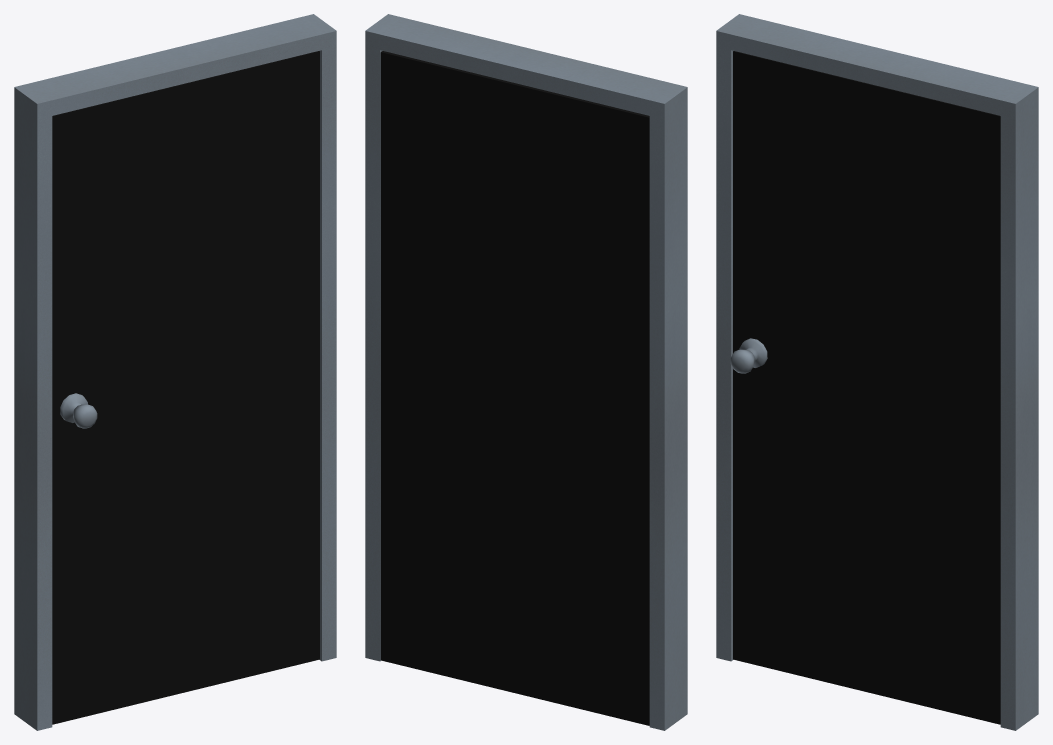
Rendered from PuertaPlasticoNegro.fbx.
The picture shows the model from 3 angles, left to right: view 1: azimuth 30°, elevation 25°; view 2: azimuth 150°, elevation 25°; view 3: azimuth 330°, elevation 25°; orthographic projection.
Visible parts, largest first — view 1: PuertaPlasticoNegro; view 2: PuertaPlasticoNegro; view 3: PuertaPlasticoNegro.
Boxes of the visible parts, box(x1,y1,x2,y2) form: PuertaPlasticoNegro: box(14, 14, 336, 730); PuertaPlasticoNegro: box(365, 14, 687, 730); PuertaPlasticoNegro: box(716, 14, 1038, 730).
Bounding box in the file's own units: 200 × 400 × 43.96.
